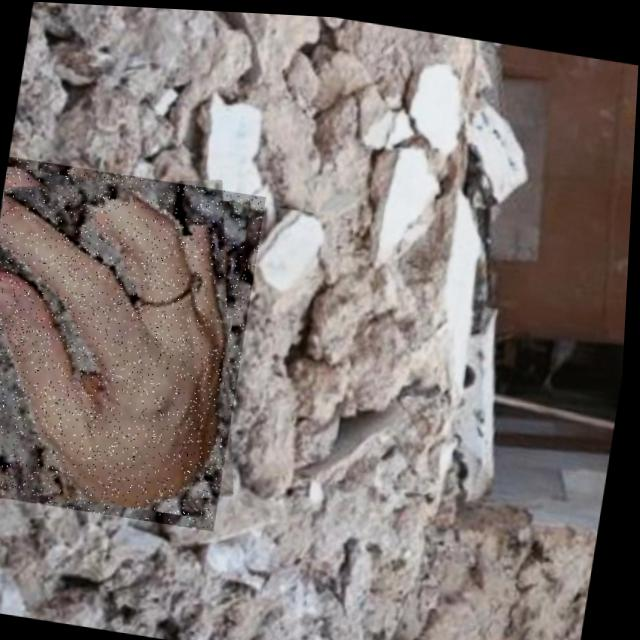Person in Rubble: (0, 155, 268, 529)
